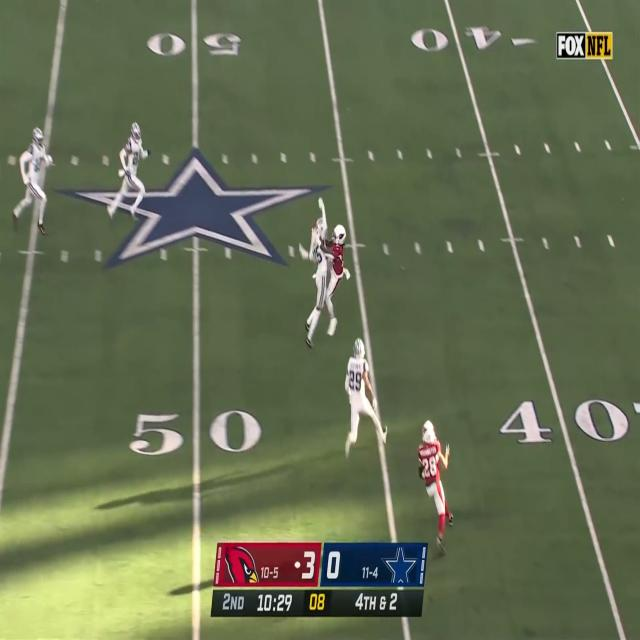players: (302, 222, 352, 347), (342, 332, 389, 461), (413, 418, 456, 558), (12, 130, 57, 236), (112, 118, 156, 222)
